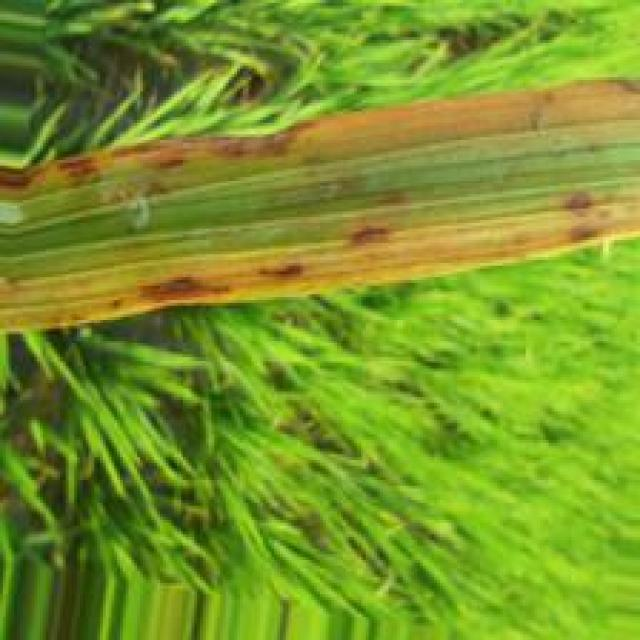Leaf_Blast: (82, 115, 352, 234), (0, 154, 112, 231)
